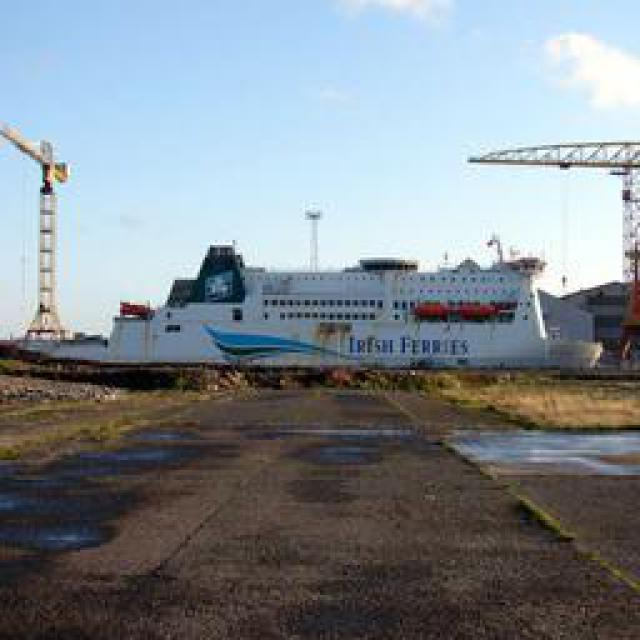Ship: (96, 255, 609, 375)
